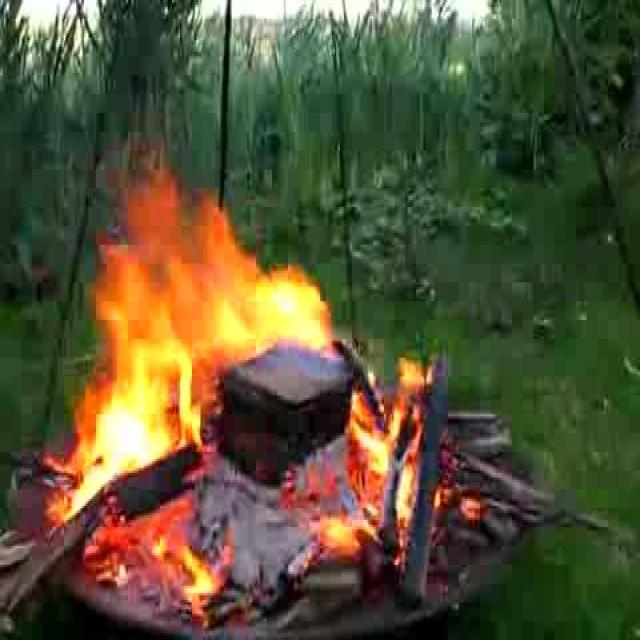fire: (91, 170, 345, 480)
